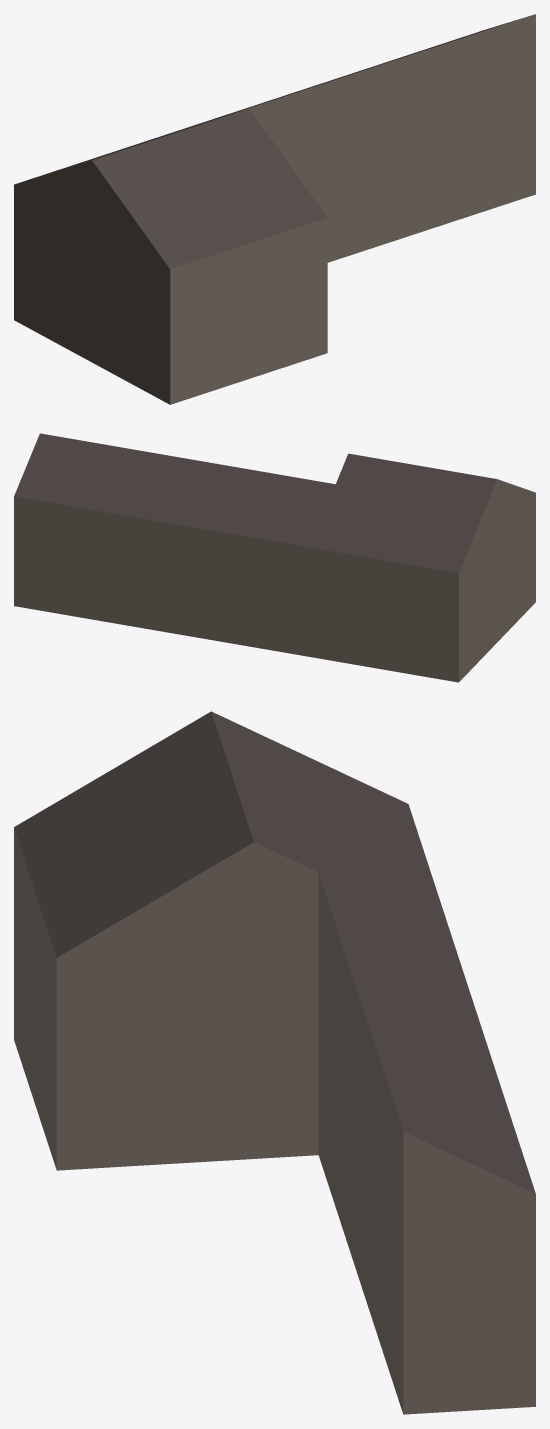
The picture shows the model from 3 angles, top to bottom: view 1: azimuth 30°, elevation 25°; view 2: azimuth 150°, elevation 25°; view 3: azimuth 270°, elevation 25°; orthographic projection. The views are drawn at different scales.
Visible parts, largest first — view 1: HP-w1365659885; view 2: HP-w1365659885; view 3: HP-w1365659885.
Boxes of the visible parts, x1,y1,x2,y2 form: HP-w1365659885: (14, 14, 535, 404); HP-w1365659885: (14, 433, 535, 682); HP-w1365659885: (14, 711, 535, 1414).
Bounding box in the file's own units: 36.12 × 13.41 × 20.02.
